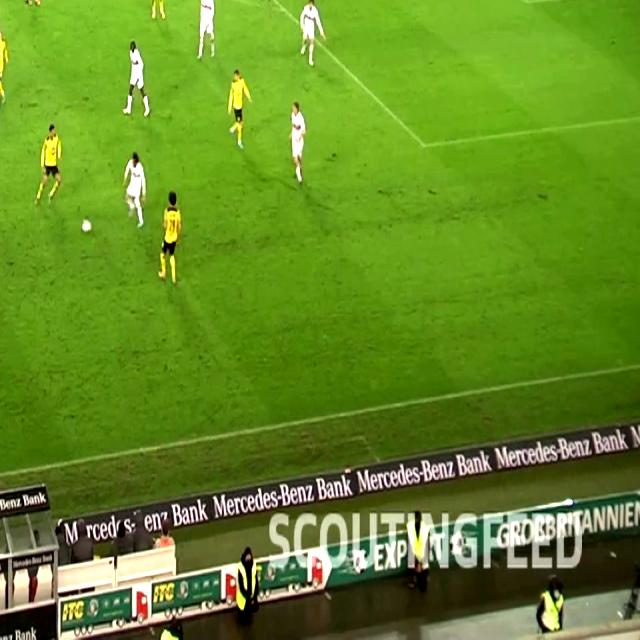ball: (79, 205, 96, 247)
referee: (0, 0, 9, 54)
soccer-player: (150, 190, 188, 292), (32, 122, 71, 209), (118, 36, 157, 120), (281, 96, 314, 188), (221, 70, 256, 155), (291, 0, 331, 71), (119, 152, 152, 230), (190, 0, 224, 66), (533, 588, 561, 640), (0, 22, 14, 114), (142, 0, 171, 25), (18, 0, 52, 9)
